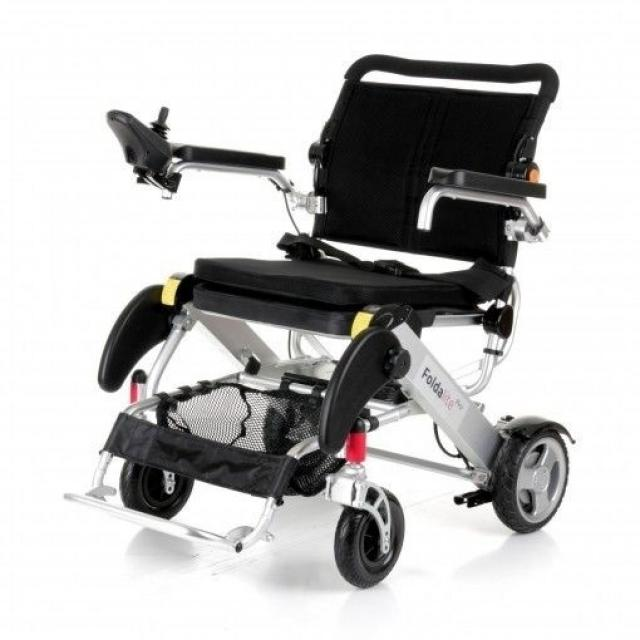wheelchair: (60, 50, 595, 602)
